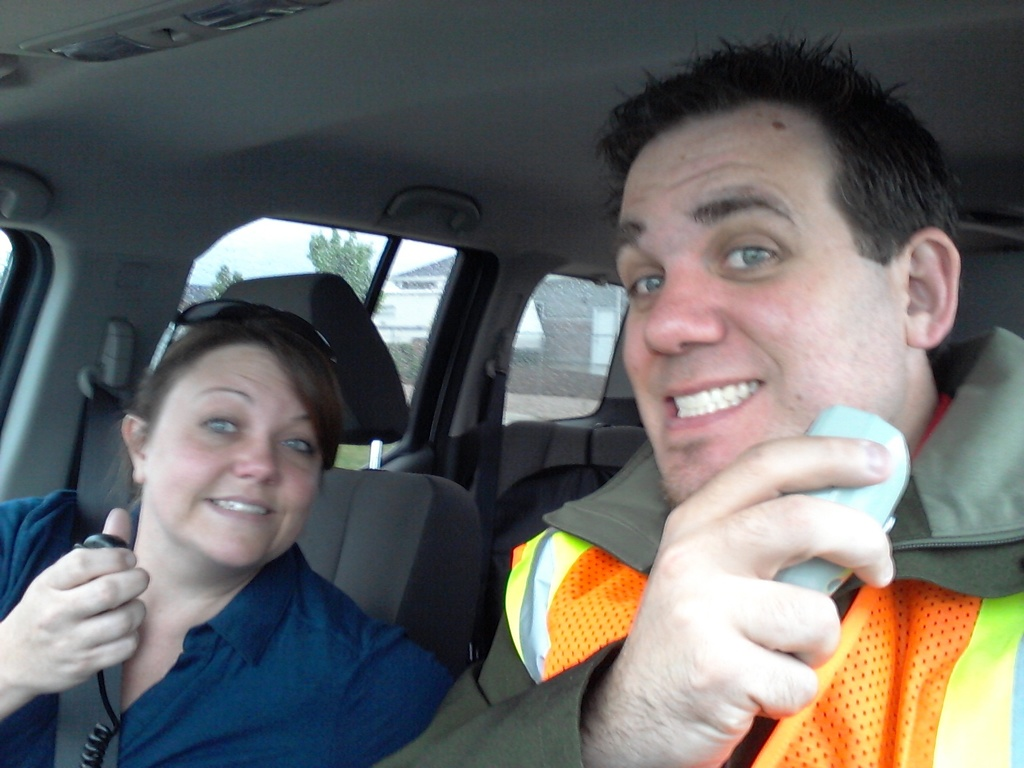Car: (69, 76, 1006, 768)
